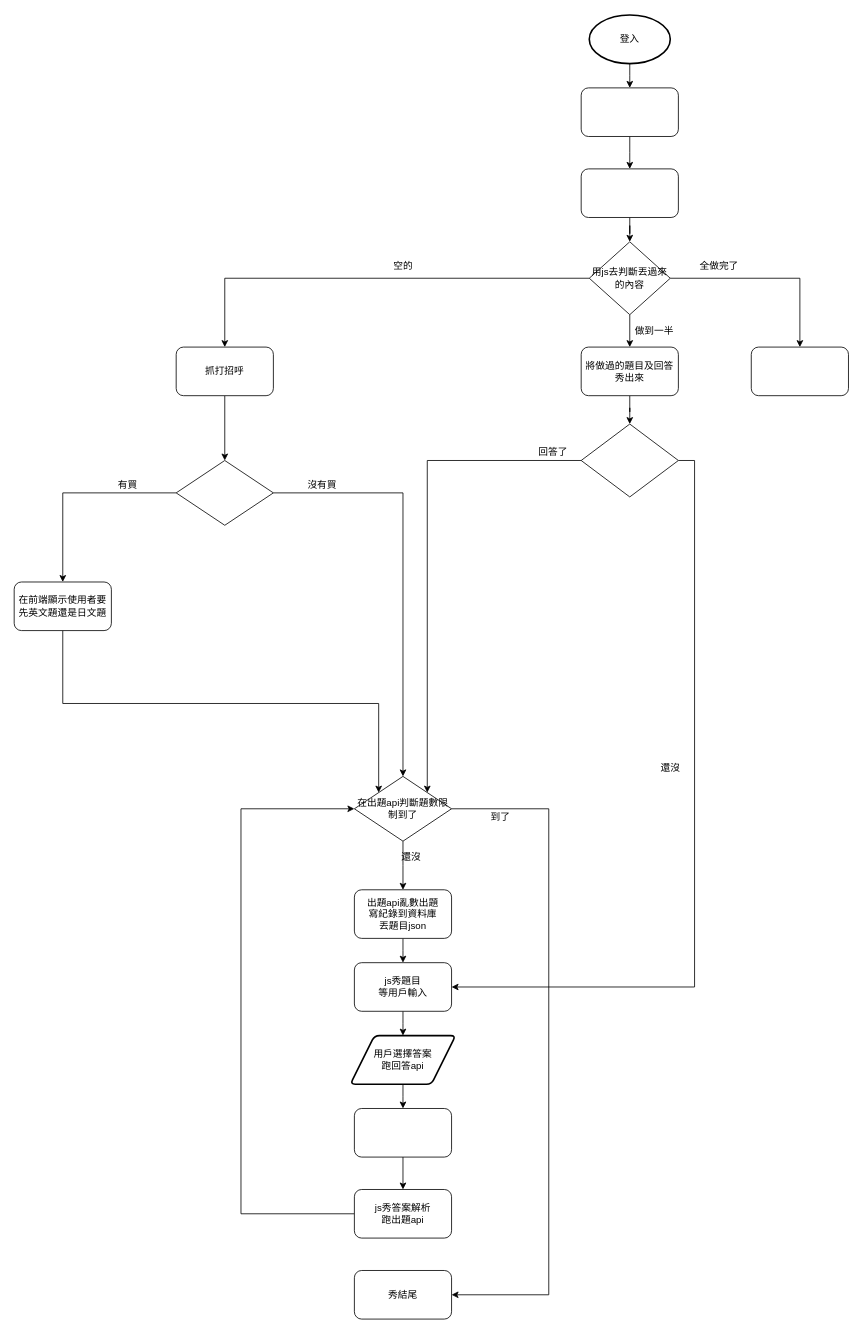
Image size: 863x1333. Some labels were removed from this diagram. The box of each missing label's shape, as (x1, y1, x2, y2) in pixels:
"今天"紀錄api: (580, 168, 678, 217)
判斷是否有買日文課程: (175, 460, 273, 525)
回答api比對答案 寫紀錄到資料庫 丟答案解析json: (354, 1108, 452, 1157)
回答目前的最後一題了嗎: (580, 423, 678, 497)
秀出來: (750, 346, 848, 396)
進到ai學習: (580, 87, 678, 136)
